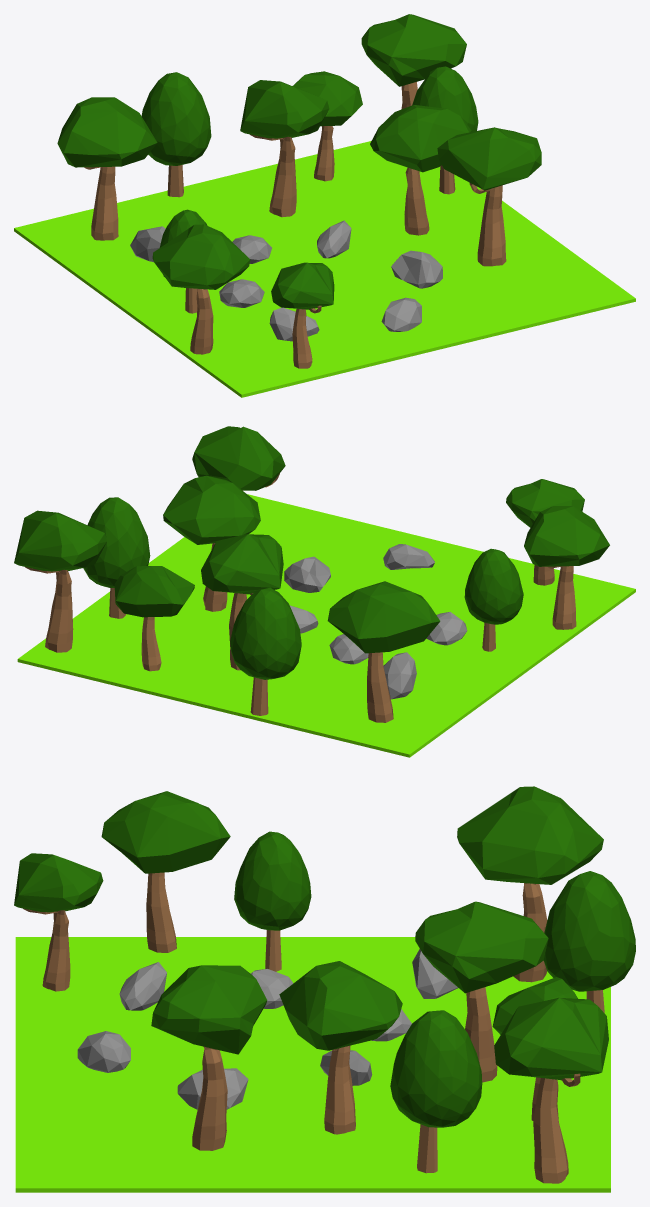
The model's file is Forest_Tile_1.fbx.
The picture shows the model from 3 angles, top to bottom: view 1: azimuth 30°, elevation 25°; view 2: azimuth 150°, elevation 25°; view 3: azimuth 270°, elevation 25°; orthographic projection. The views are drawn at different scales.
Parts seen in each view (by area): view 1: Chao, Plane|Tronco 1|Dupli|3, Plane|Tronco 2|Dupli|4, Plane|Tronco 2|Dupli|6, Plane|Tronco 1|Dupli|9, Plane|Tronco 1|Dupli|1, Plane|Tronco 2|Dupli|10, Plane|Tronco 3|Dupli|7, Plane|Tronco 2|Dupli|2, Plane|Tronco 1|Dupli|5, Plane|Tronco 3|Dupli|8, Icosphere.004 (+7 smaller); view 2: Chao, Plane|Tronco 1|Dupli|3, Plane|Tronco 2|Dupli|10, Plane|Tronco 3|Dupli|7, Plane|Tronco 1|Dupli|1, Plane|Tronco 1|Dupli|9, Plane|Tronco 2|Dupli|6, Plane|Tronco 2|Dupli|4, Plane|Tronco 1|Dupli|5, Plane|Tronco 3|Dupli|8, Plane|Tronco 3|Dupli|, Plane|Tronco 2|Dupli|2 (+5 smaller); view 3: Chao, Plane|Tronco 1|Dupli|3, Plane|Tronco 2|Dupli|10, Plane|Tronco 2|Dupli|6, Plane|Tronco 2|Dupli|4, Plane|Tronco 1|Dupli|1, Plane|Tronco 3|Dupli|8, Plane|Tronco 1|Dupli|9, Plane|Tronco 3|Dupli|7, Plane|Tronco 3|Dupli|, Plane|Tronco 2|Dupli|2, Plane|Tronco 1|Dupli|5 (+6 smaller).
Boxes of the visible parts, x1,y1,x2,y2 form: Chao: [14, 141, 635, 397]; Plane|Tronco 1|Dupli|3: [57, 97, 157, 240]; Plane|Tronco 2|Dupli|4: [437, 127, 541, 266]; Plane|Tronco 2|Dupli|6: [240, 80, 329, 217]; Plane|Tronco 1|Dupli|9: [152, 224, 250, 354]; Plane|Tronco 1|Dupli|1: [370, 105, 471, 235]; Plane|Tronco 2|Dupli|10: [361, 14, 466, 109]; Plane|Tronco 3|Dupli|7: [141, 72, 211, 197]; Plane|Tronco 2|Dupli|2: [271, 262, 334, 368]; Plane|Tronco 1|Dupli|5: [292, 71, 362, 181]; Plane|Tronco 3|Dupli|8: [412, 66, 478, 194]; Icosphere.004: [391, 250, 442, 288]; Chao: [17, 494, 635, 757]; Plane|Tronco 1|Dupli|3: [327, 581, 440, 722]; Plane|Tronco 2|Dupli|10: [14, 510, 106, 652]; Plane|Tronco 3|Dupli|7: [230, 587, 301, 715]; Plane|Tronco 1|Dupli|1: [163, 475, 260, 611]; Plane|Tronco 1|Dupli|9: [524, 506, 609, 629]; Plane|Tronco 2|Dupli|6: [201, 534, 283, 670]; Plane|Tronco 2|Dupli|4: [192, 426, 285, 490]; Plane|Tronco 1|Dupli|5: [114, 566, 194, 671]; Plane|Tronco 3|Dupli|8: [83, 497, 150, 618]; Plane|Tronco 3|Dupli|: [464, 548, 523, 651]; Plane|Tronco 2|Dupli|2: [506, 479, 584, 585]; Chao: [15, 937, 610, 1192]; Plane|Tronco 1|Dupli|3: [457, 786, 603, 982]; Plane|Tronco 2|Dupli|10: [494, 997, 608, 1183]; Plane|Tronco 2|Dupli|6: [415, 901, 548, 1082]; Plane|Tronco 2|Dupli|4: [151, 965, 267, 1150]; Plane|Tronco 1|Dupli|1: [279, 961, 402, 1134]; Plane|Tronco 3|Dupli|8: [390, 1010, 482, 1173]; Plane|Tronco 1|Dupli|9: [101, 791, 230, 952]; Plane|Tronco 3|Dupli|7: [543, 871, 635, 1012]; Plane|Tronco 3|Dupli|: [234, 831, 311, 971]; Plane|Tronco 2|Dupli|2: [14, 853, 103, 991]; Plane|Tronco 1|Dupli|5: [492, 977, 577, 1120].
Size of the model in its own units: 728 by 679 by 229.
